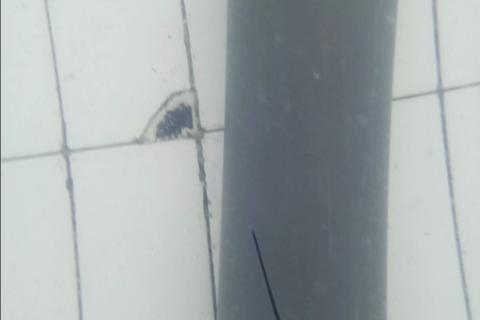keretakan: (252, 228, 282, 320)
